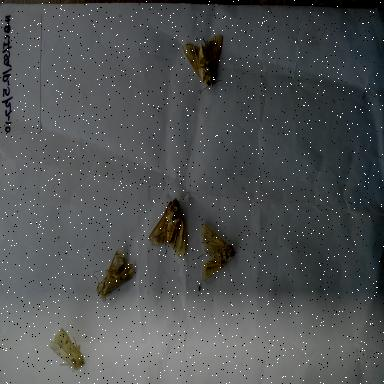abw: (145, 194, 190, 263), (180, 31, 226, 97), (194, 212, 236, 284), (91, 244, 137, 302), (46, 320, 92, 374)
